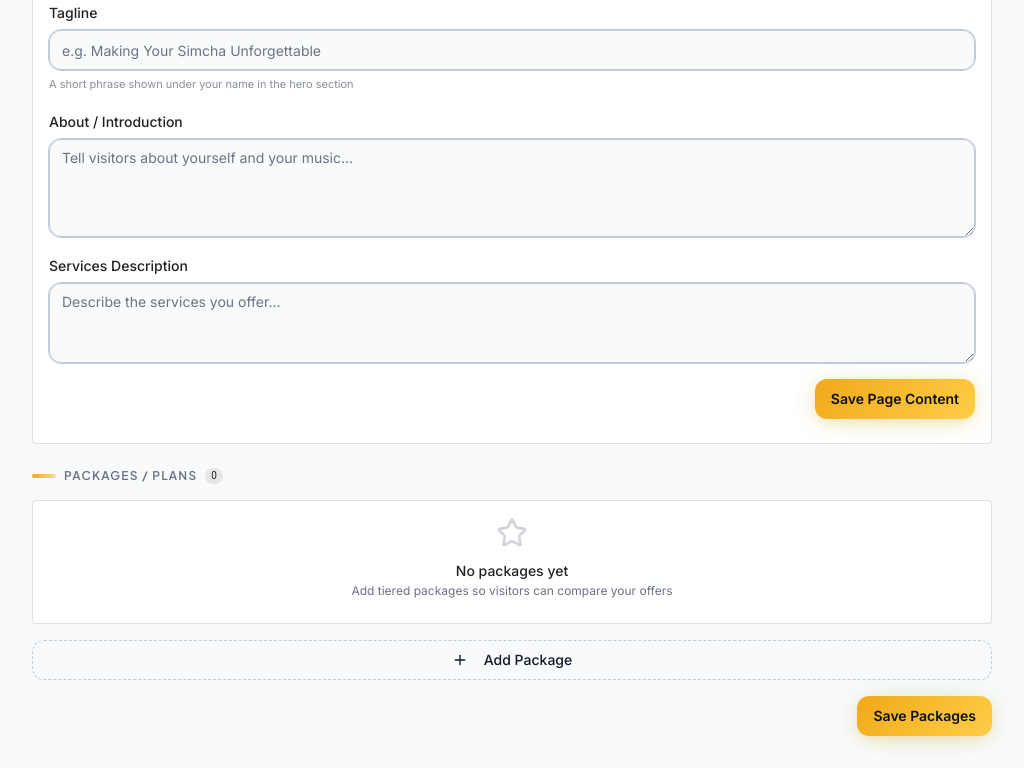
LandingPageEditor › shows the empty state and adds a new package
This screenshot has width=1024, height=768.
(page scrolled)
Expected: the text "No packages yet" is shown, [456,560,568,580]
Click the button "Add Package": click(512, 660) [32,640,992,680]
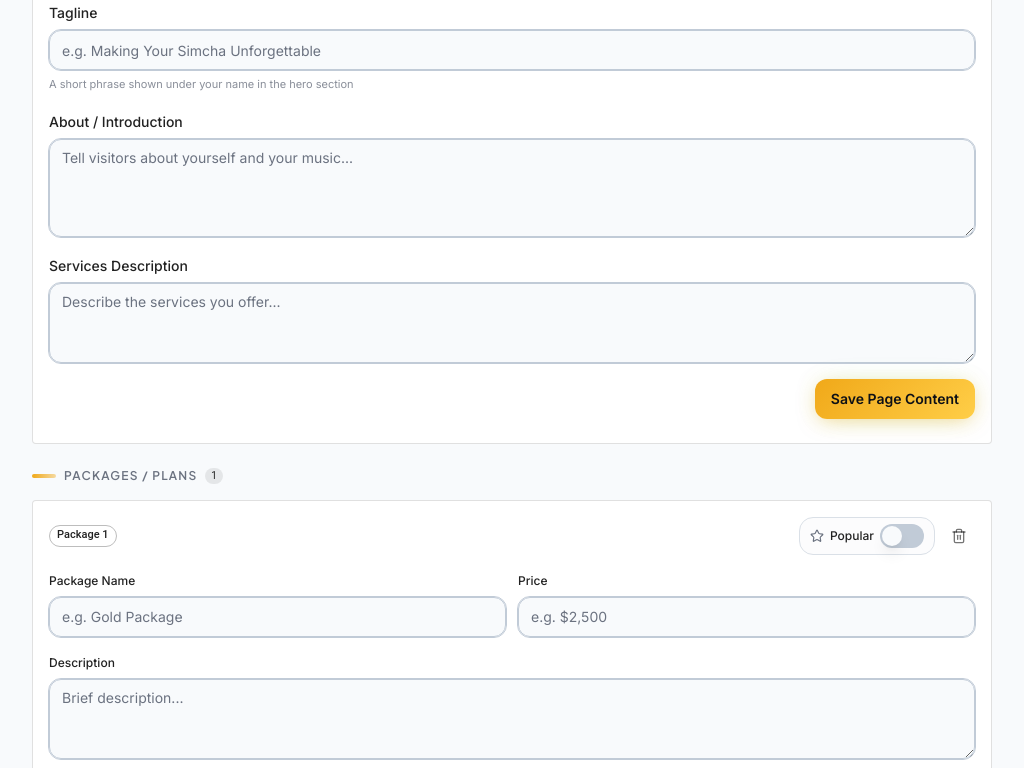
Now the text "No packages yet" is gone
Now the field with placeholder "e.g. Gold Package" is shown, box [49,596,506,636]
